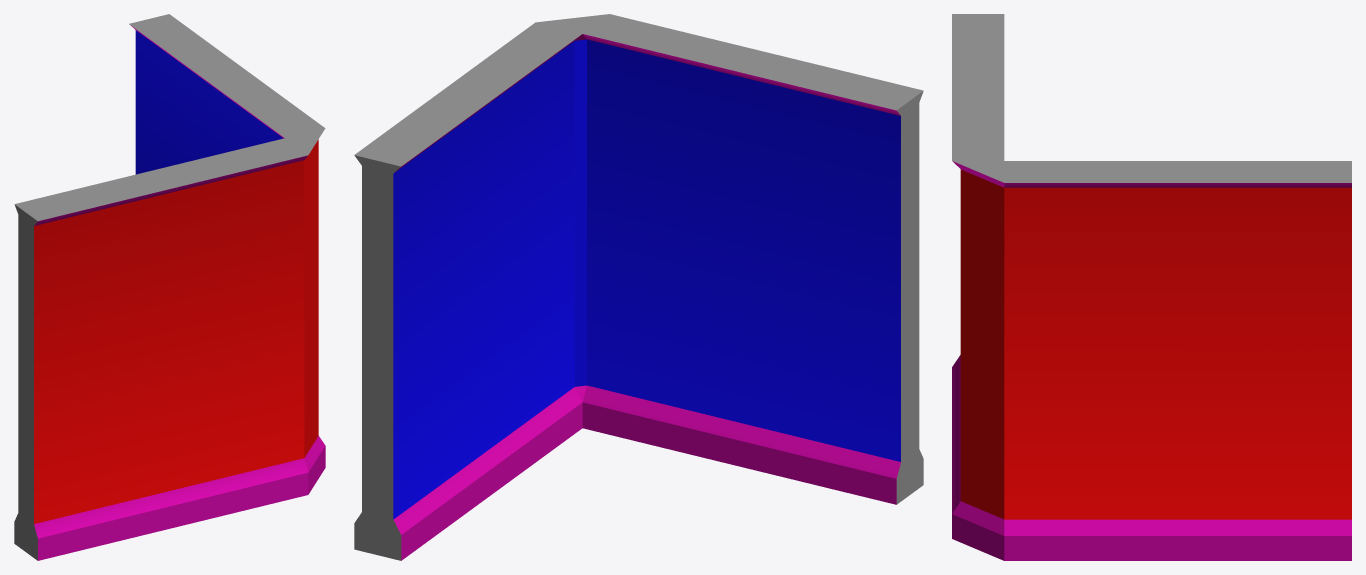
3 renders of one model, left to right at view 1: azimuth 30°, elevation 25°; view 2: azimuth 150°, elevation 25°; view 3: azimuth 270°, elevation 25°, orthographic. The views are drawn at different scales.
Visible parts, largest first — view 1: ModularWall006; view 2: ModularWall006; view 3: ModularWall006.
Boxes of the visible parts, x1=… form: ModularWall006: x1=14, y1=14, x2=325, y2=560; ModularWall006: x1=354, y1=14, x2=923, y2=560; ModularWall006: x1=952, y1=14, x2=1351, y2=560.
Bounding box in the file's own units: 115 × 120 × 115.
